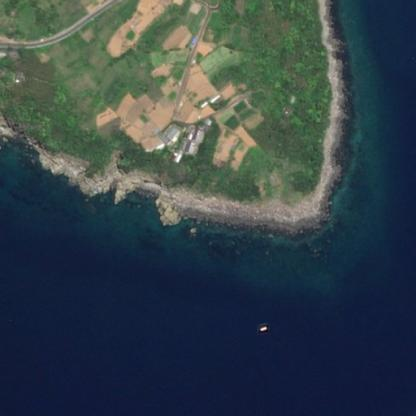ship: (259, 325, 267, 330)
